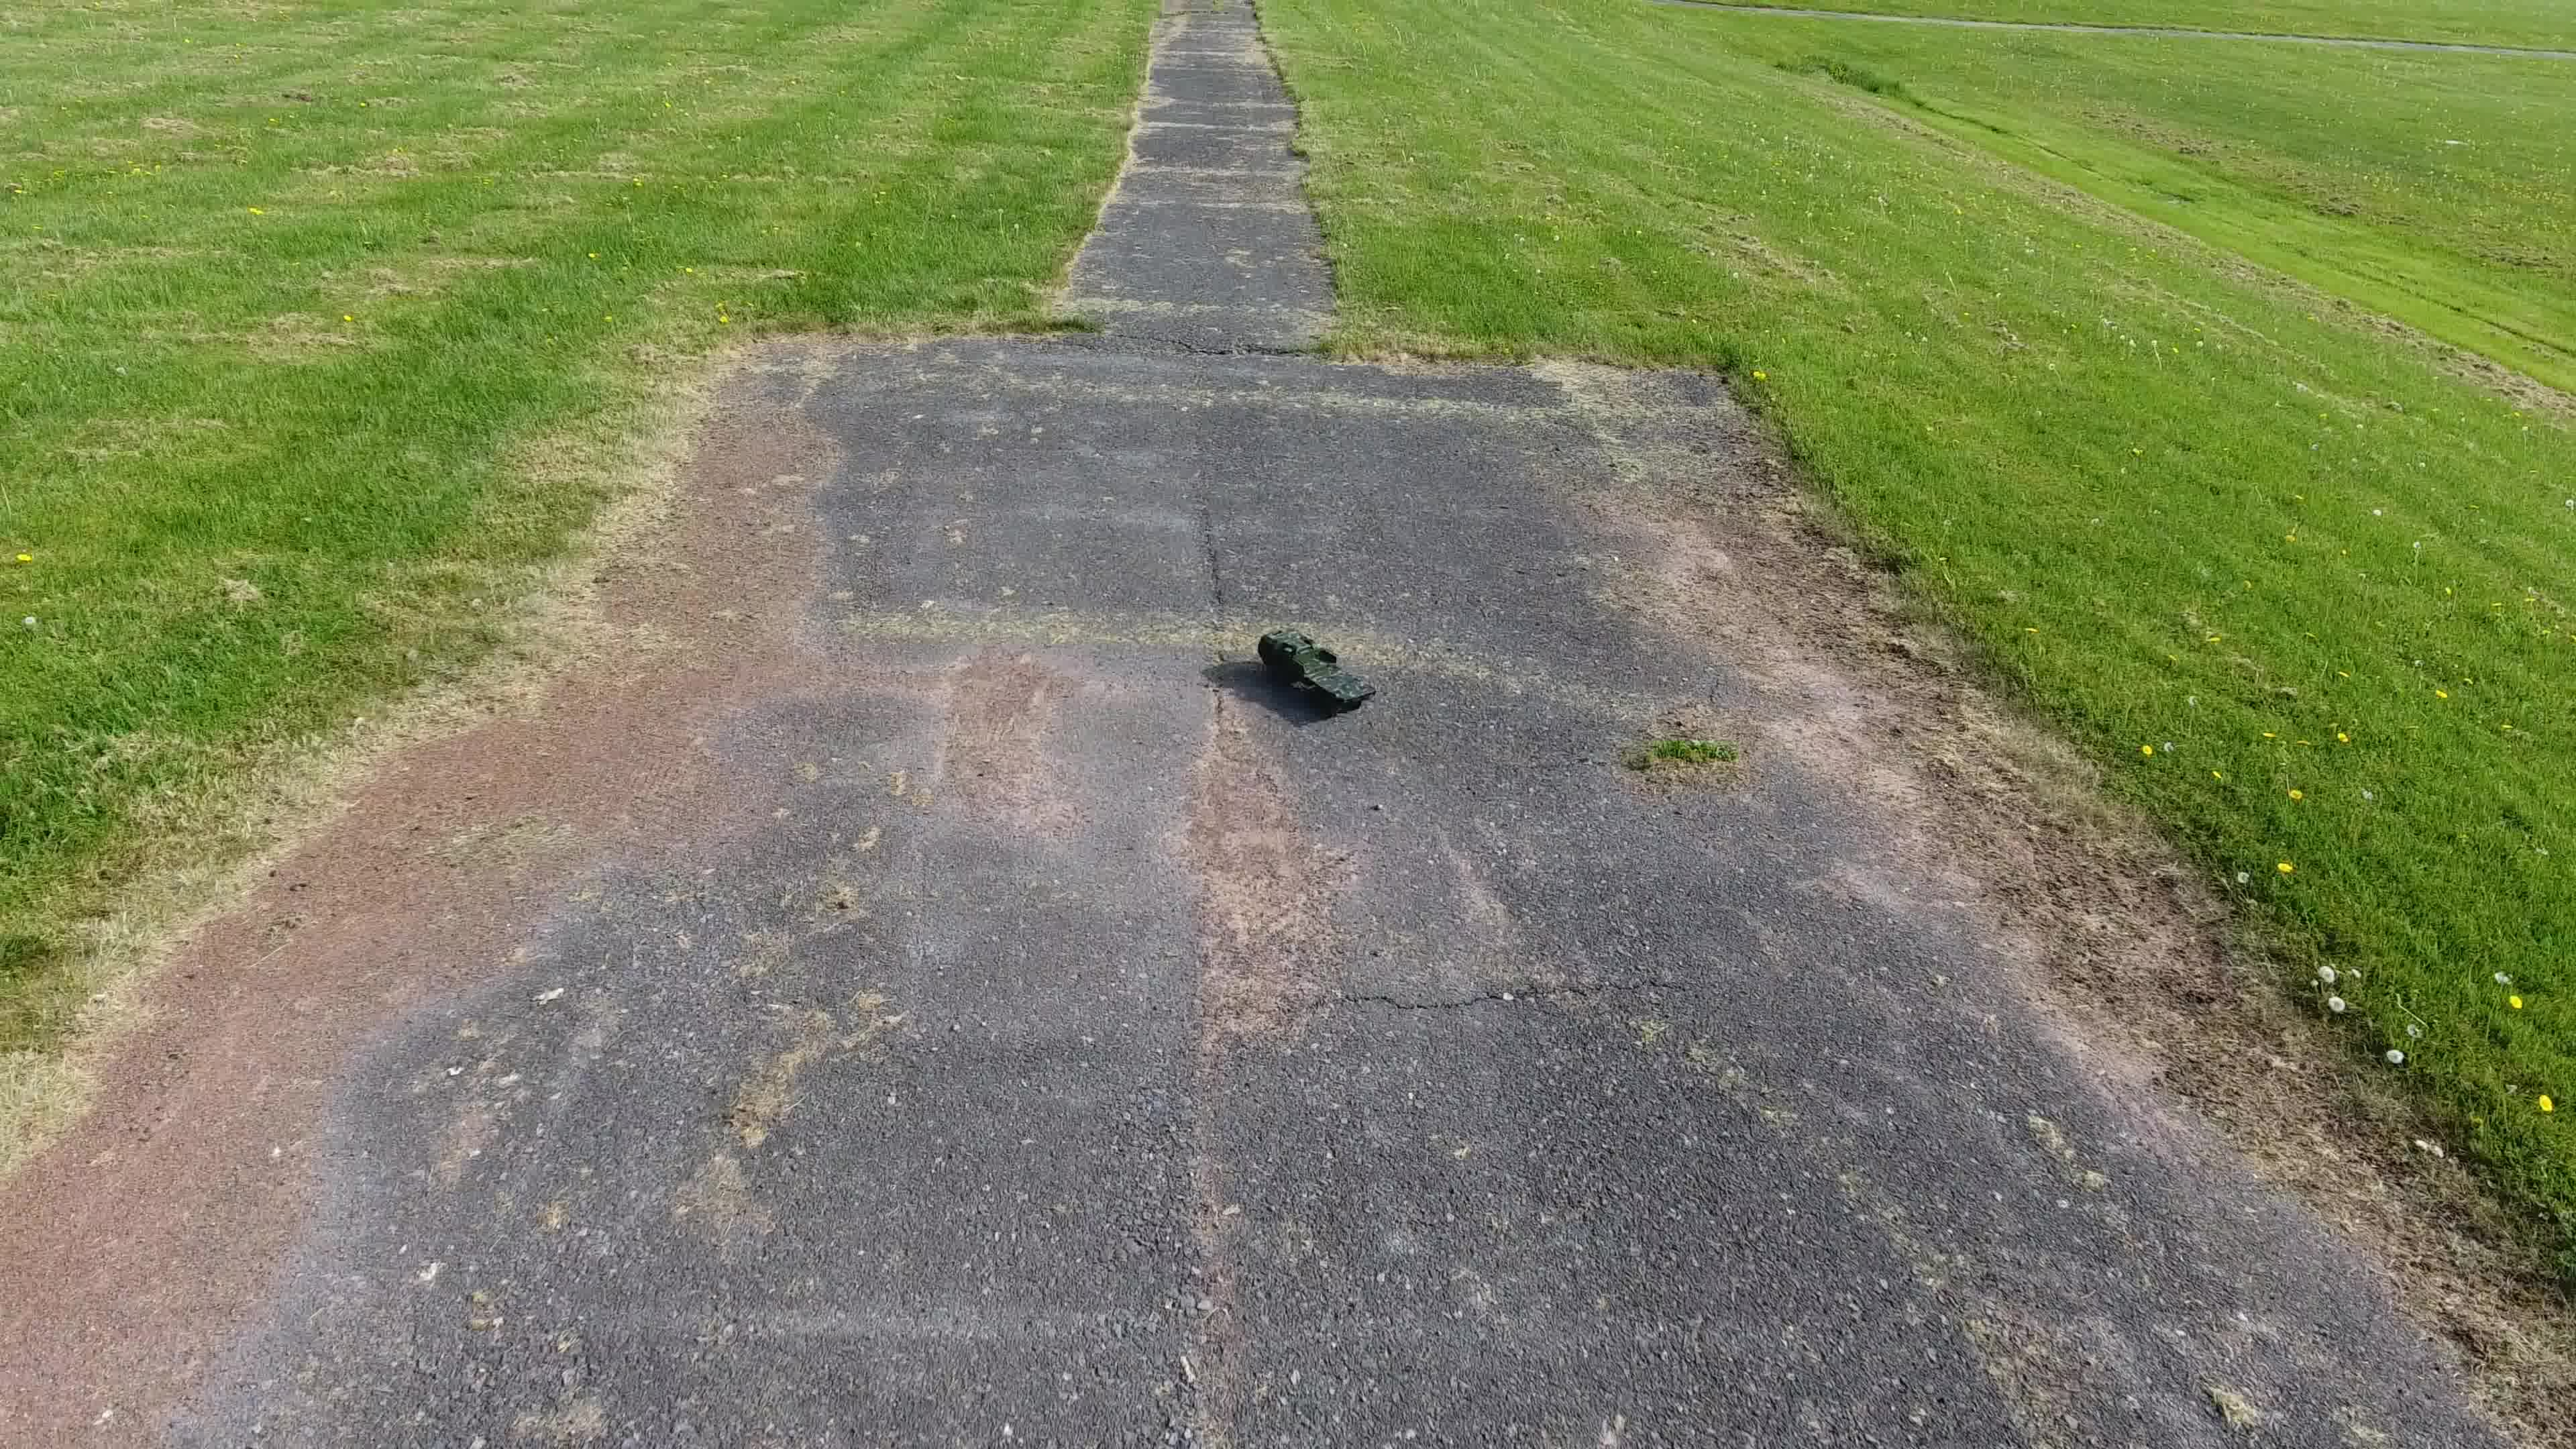transporter9: (1258, 625, 1380, 718)
